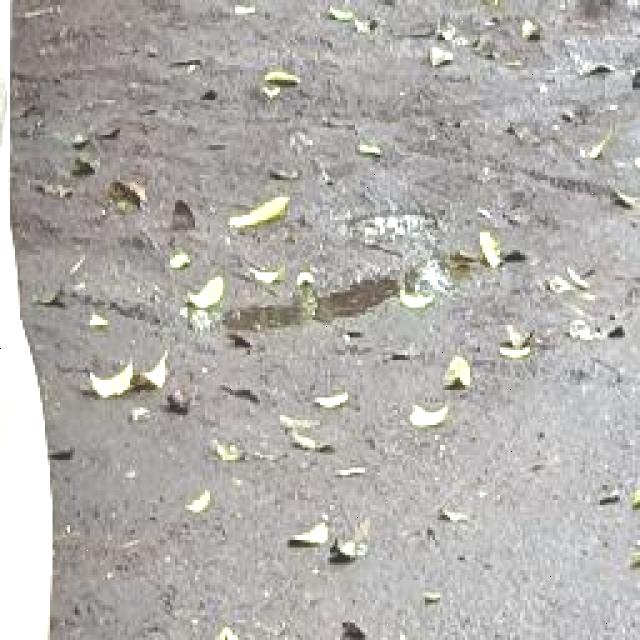stagnation: (208, 187, 537, 345)
